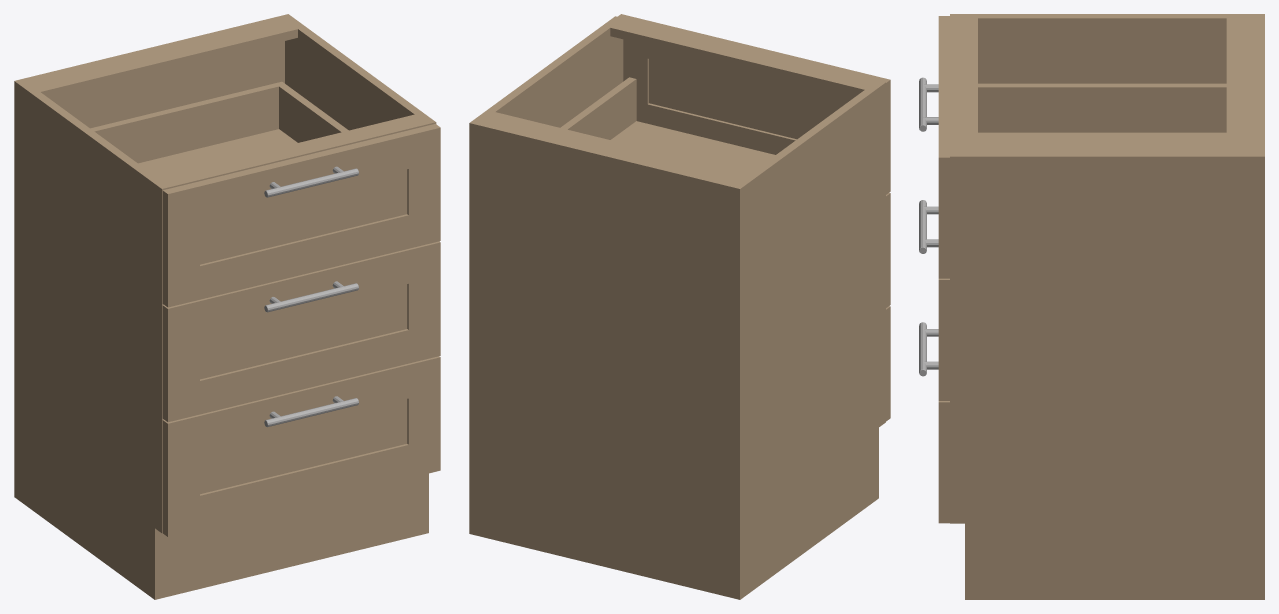
Rendered from base-cabinet-multidrawer.glb.
3 renders of one model, left to right at view 1: azimuth 30°, elevation 25°; view 2: azimuth 150°, elevation 25°; view 3: azimuth 270°, elevation 25°, orthographic. The views are drawn at different scales.
Parts seen in each view (by area): view 1: skp; view 2: skp; view 3: skp.
Part boxes in pixels (x1,y1,x2,y2): skp: (14, 14, 440, 599); skp: (469, 14, 890, 599); skp: (919, 14, 1264, 599).
Bounding box in the file's own units: 0.6 × 0.87 × 0.6148.
